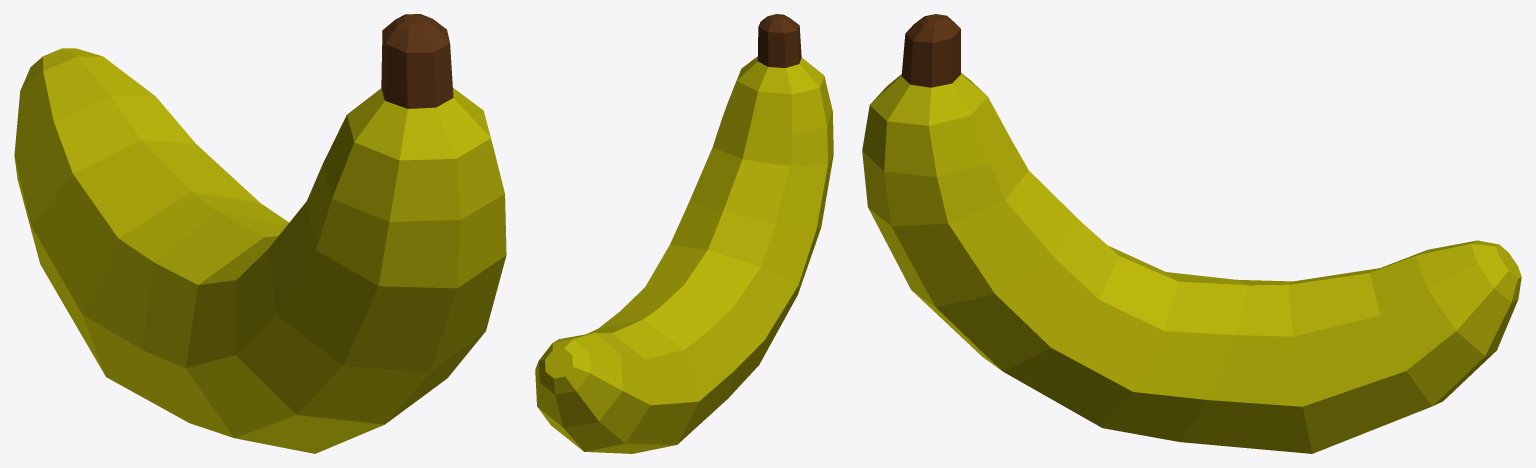
Rendered from Banano.fbx.
The picture shows the model from 3 angles, left to right: view 1: azimuth 30°, elevation 25°; view 2: azimuth 150°, elevation 25°; view 3: azimuth 270°, elevation 25°; orthographic projection. The views are drawn at different scales.
Visible parts, largest first — view 1: Cylinder; view 2: Cylinder; view 3: Cylinder.
Part boxes in pixels (x1,y1,x2,y2): Cylinder: (14,14,506,453); Cylinder: (535,14,833,453); Cylinder: (862,14,1521,453).
Bounding box in the file's own units: 73.38 × 180 × 248.
